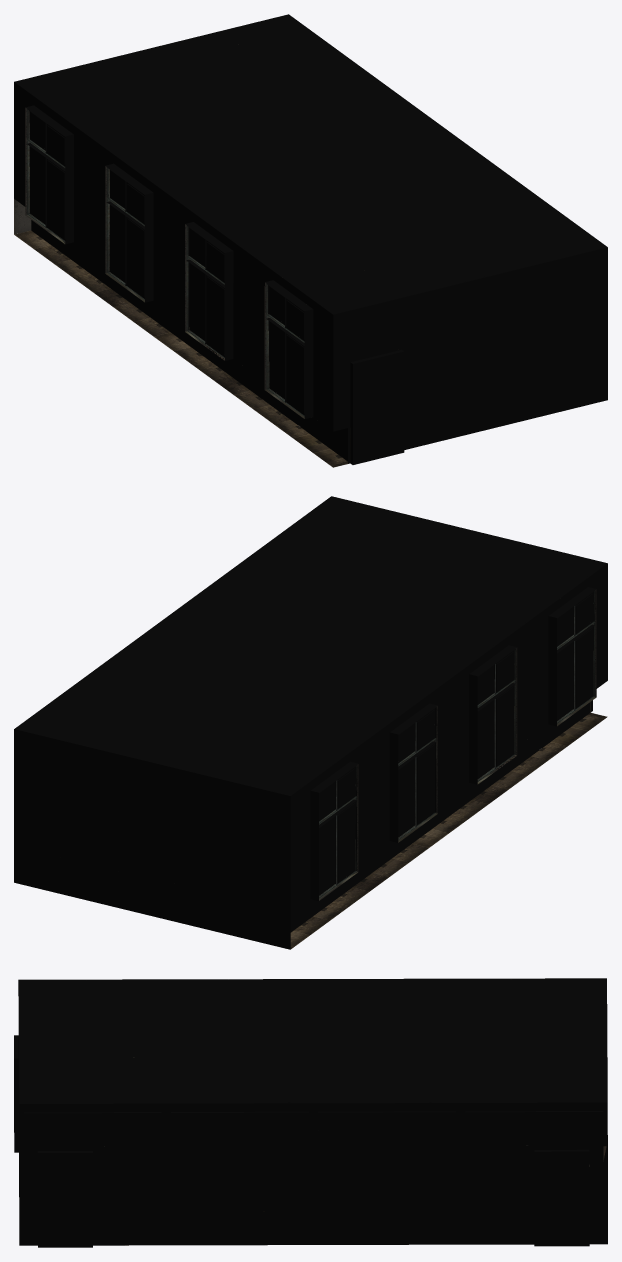
The model's file is abandoned_classroom.glb.
3 renders of one model, top to bottom at view 1: azimuth 30°, elevation 25°; view 2: azimuth 150°, elevation 25°; view 3: azimuth 270°, elevation 25°, orthographic. The views are drawn at different scales.
Parts seen in each view (by area): view 1: Material2 (×2), Material3 (×2); view 2: Material2 (×2), Material3 (×2); view 3: Material2.
Boxes of the visible parts, x1,y1,x2,y2 form: Material2 (×2): [14, 14, 607, 467]; Material3 (×2): [25, 107, 304, 416]; Material2 (×2): [14, 496, 607, 949]; Material3 (×2): [319, 589, 596, 898]; Material2: [14, 978, 607, 1247].
Bounding box in the file's own units: 225 × 114 × 432.
Materials: 10 (10 with a texture image).
